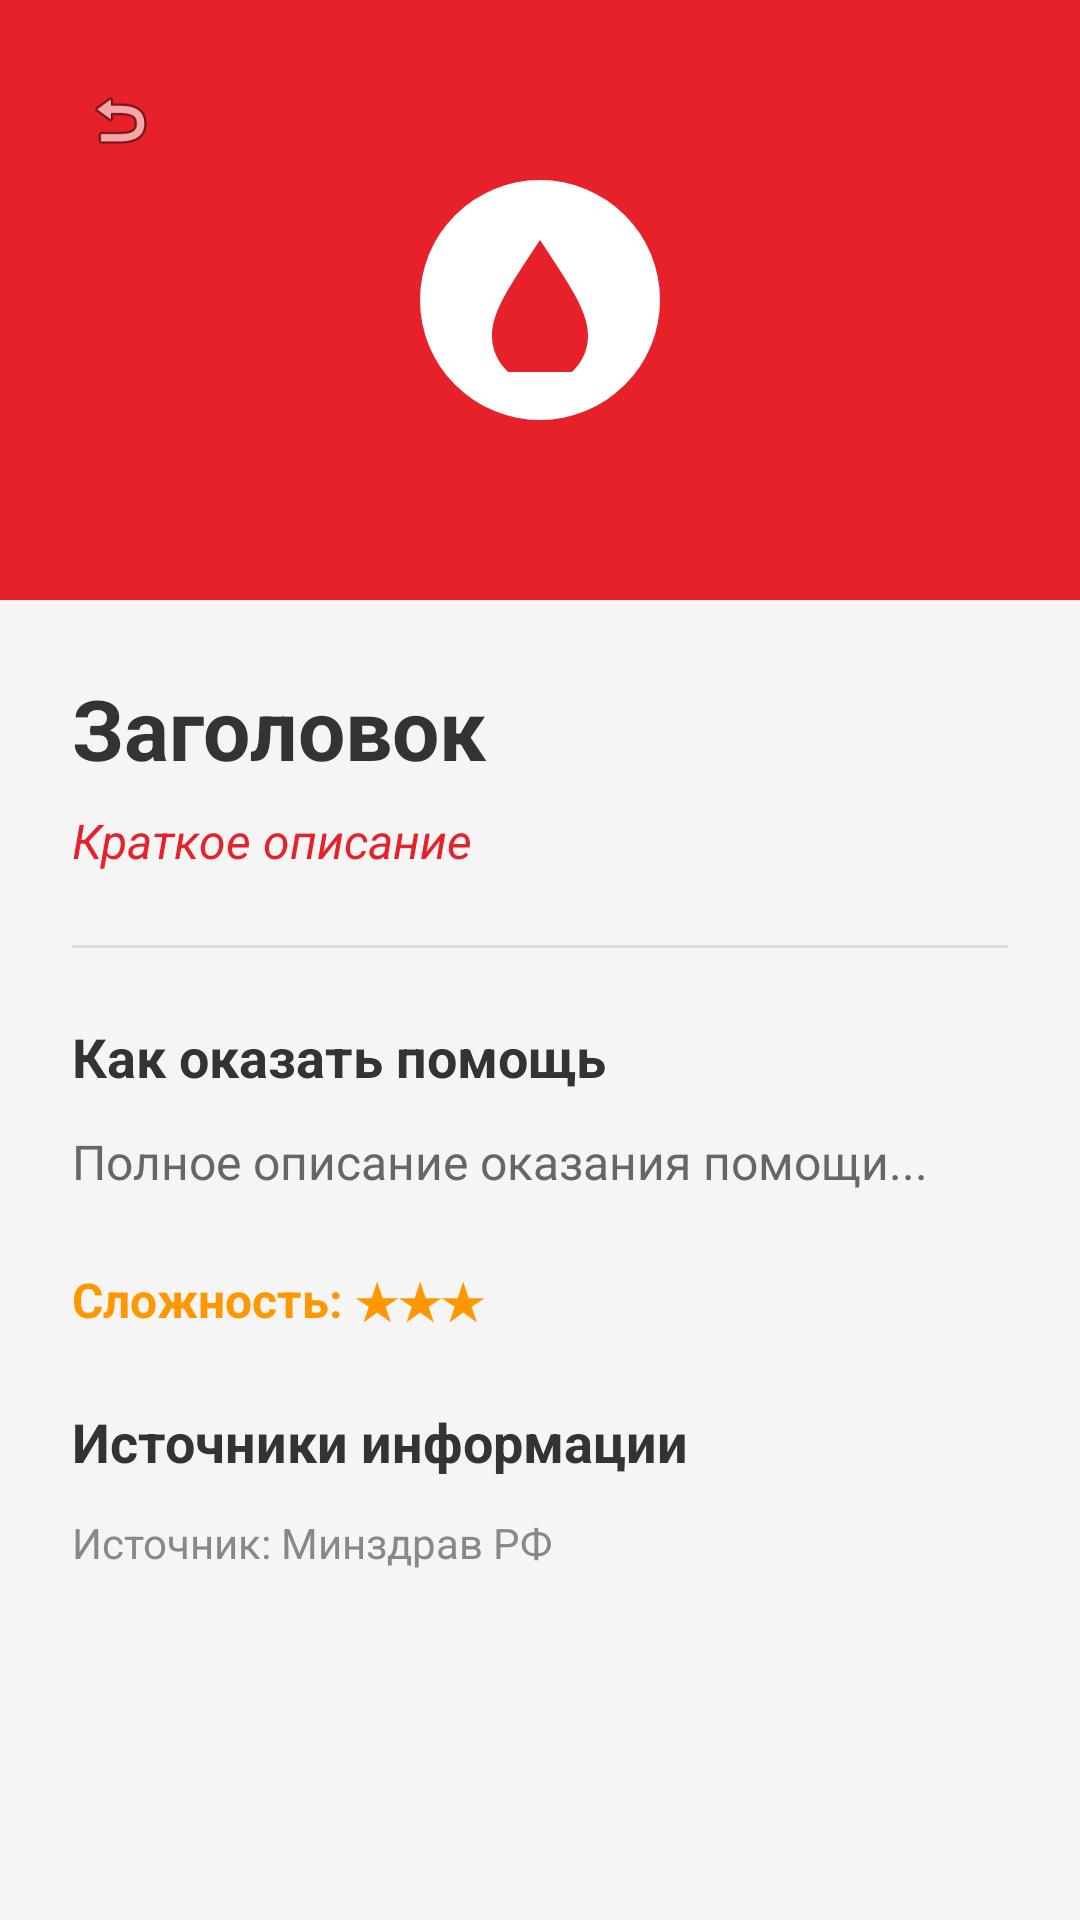

Named icons in this screenshot (1080 x 1920) and their centers, point (x, y):
blood: point (540, 300)
Назад: point (121, 120)
